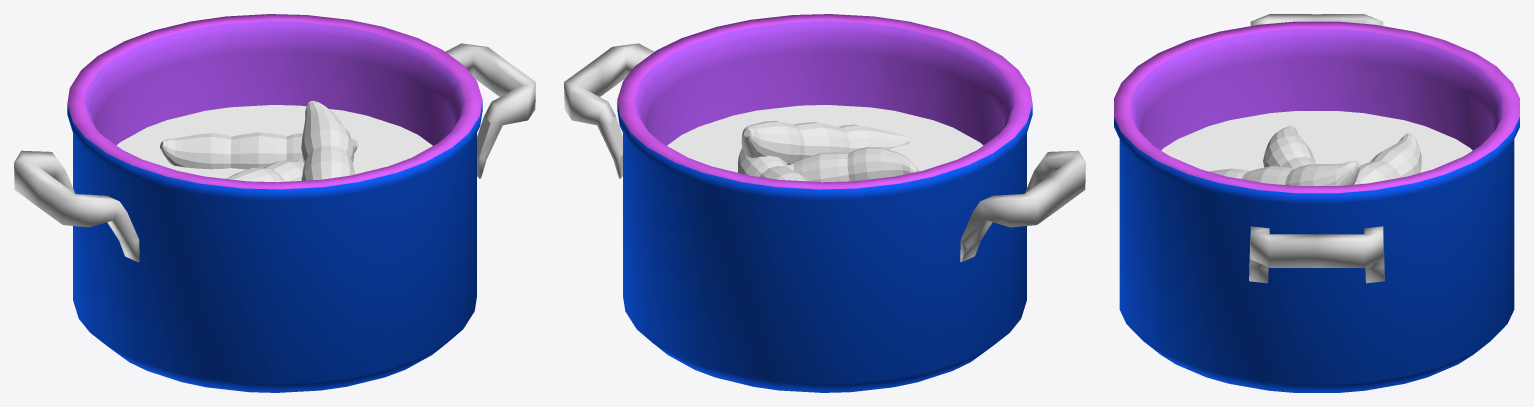
Rendered from SoybeanPot.fbx.
3 renders of one model, left to right at view 1: azimuth 30°, elevation 25°; view 2: azimuth 150°, elevation 25°; view 3: azimuth 270°, elevation 25°, orthographic.
Visible parts, largest first — view 1: Cylinder.009, Cylinder.010, Soybeans.001, Water.001; view 2: Cylinder.009, Cylinder.010, Soybeans.001, Water.001; view 3: Cylinder.009, Water.001, Cylinder.010, Soybeans.001.
Boxes of the visible parts, x1,y1,x2,y2 form: Cylinder.009: [67, 14, 482, 392]; Cylinder.010: [14, 43, 535, 261]; Soybeans.001: [160, 100, 357, 182]; Water.001: [116, 105, 432, 178]; Cylinder.009: [617, 14, 1032, 392]; Cylinder.010: [564, 43, 1085, 261]; Soybeans.001: [738, 121, 918, 182]; Water.001: [667, 105, 983, 172]; Cylinder.009: [1114, 21, 1519, 392]; Water.001: [1161, 111, 1472, 172]; Cylinder.010: [1249, 14, 1384, 283]; Soybeans.001: [1208, 126, 1421, 185].
Size of the model in its own units: 83.38 by 35.99 by 62.94.
